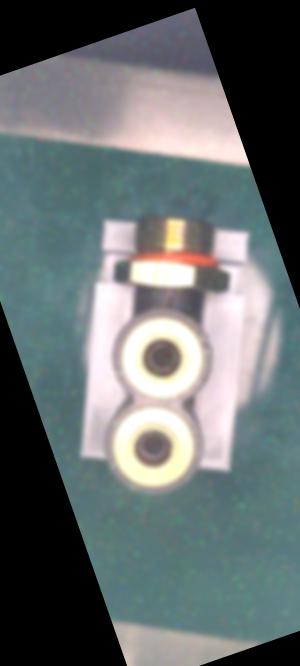craze: (161, 286, 181, 311)
